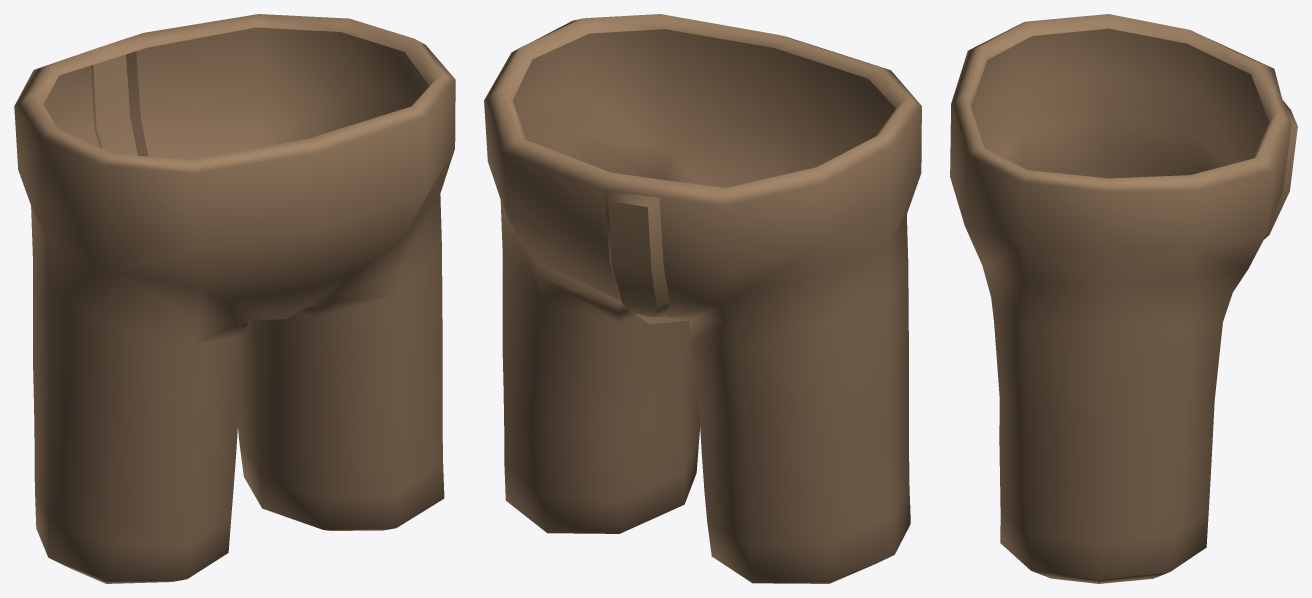
The model's file is Bottom_13.fbx.
The picture shows the model from 3 angles, left to right: view 1: azimuth 30°, elevation 25°; view 2: azimuth 150°, elevation 25°; view 3: azimuth 270°, elevation 25°; orthographic projection. The views are drawn at different scales.
Visible parts, largest first — view 1: Bottom_13; view 2: Bottom_13; view 3: Bottom_13.
Boxes of the visible parts, x1=… form: Bottom_13: x1=14, y1=14, x2=455, y2=583; Bottom_13: x1=484, y1=14, x2=921, y2=583; Bottom_13: x1=950, y1=14, x2=1297, y2=583.
Size of the model in its own units: 37.99 by 42.06 by 31.97.
